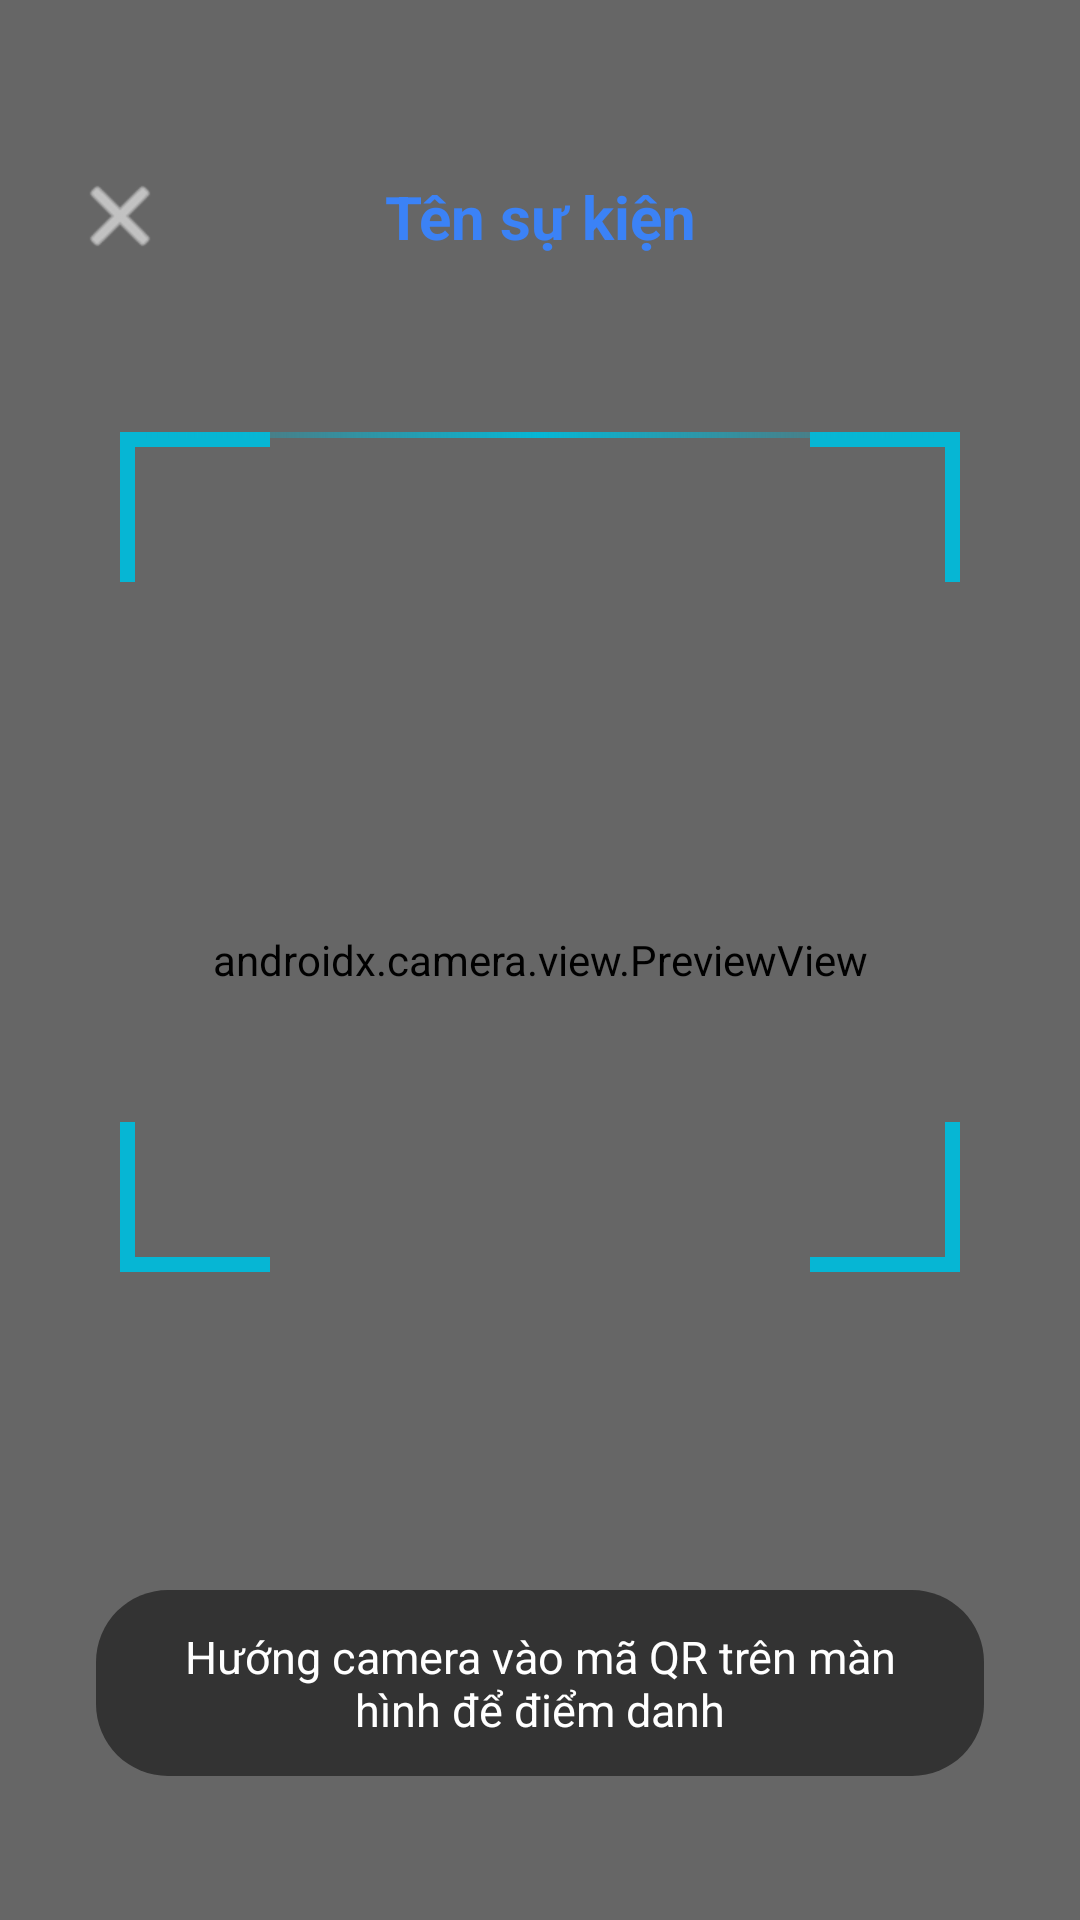

Icon click points for this 1080 x 1920 phone screenshot, format (x=x, y=y):
Đóng: (x=120, y=216)
